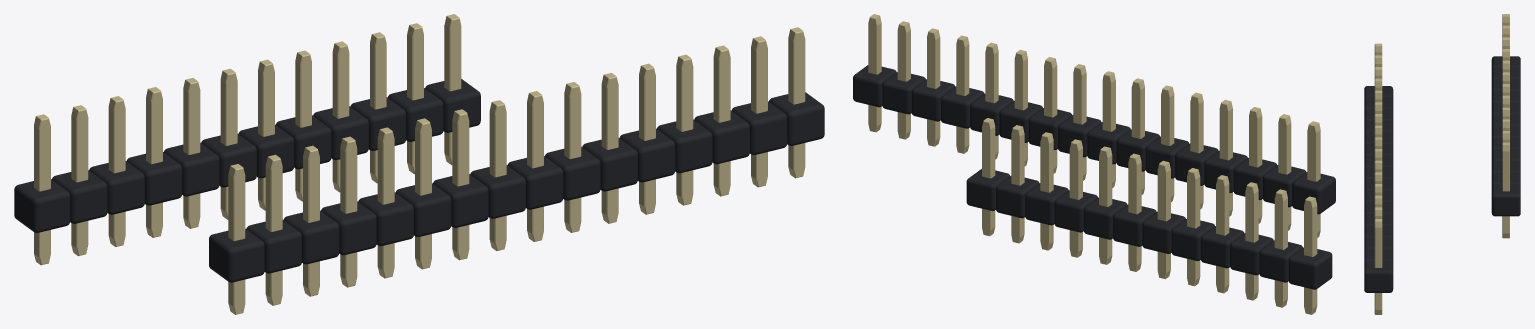
Rendered from components-26.glb.
The picture shows the model from 3 angles, left to right: view 1: azimuth 30°, elevation 25°; view 2: azimuth 150°, elevation 25°; view 3: azimuth 270°, elevation 25°; orthographic projection. The views are drawn at different scales.
Parts seen in each view (by area): view 1: spacers, pins, tails; view 2: spacers, pins, tails; view 3: spacers, pins, tails.
Boxes of the visible parts, <box> form: spacers: <box>14,79,824,282</box>; pins: <box>34,14,805,240</box>; tails: <box>34,132,805,314</box>; spacers: <box>853,65,1335,289</box>; pins: <box>868,14,1320,256</box>; tails: <box>868,105,1320,314</box>; spacers: <box>1364,56,1520,292</box>; pins: <box>1374,14,1509,267</box>; tails: <box>1374,216,1509,314</box>.
Size of the model in its own units: 2.65 by 0.533 by 0.81.
